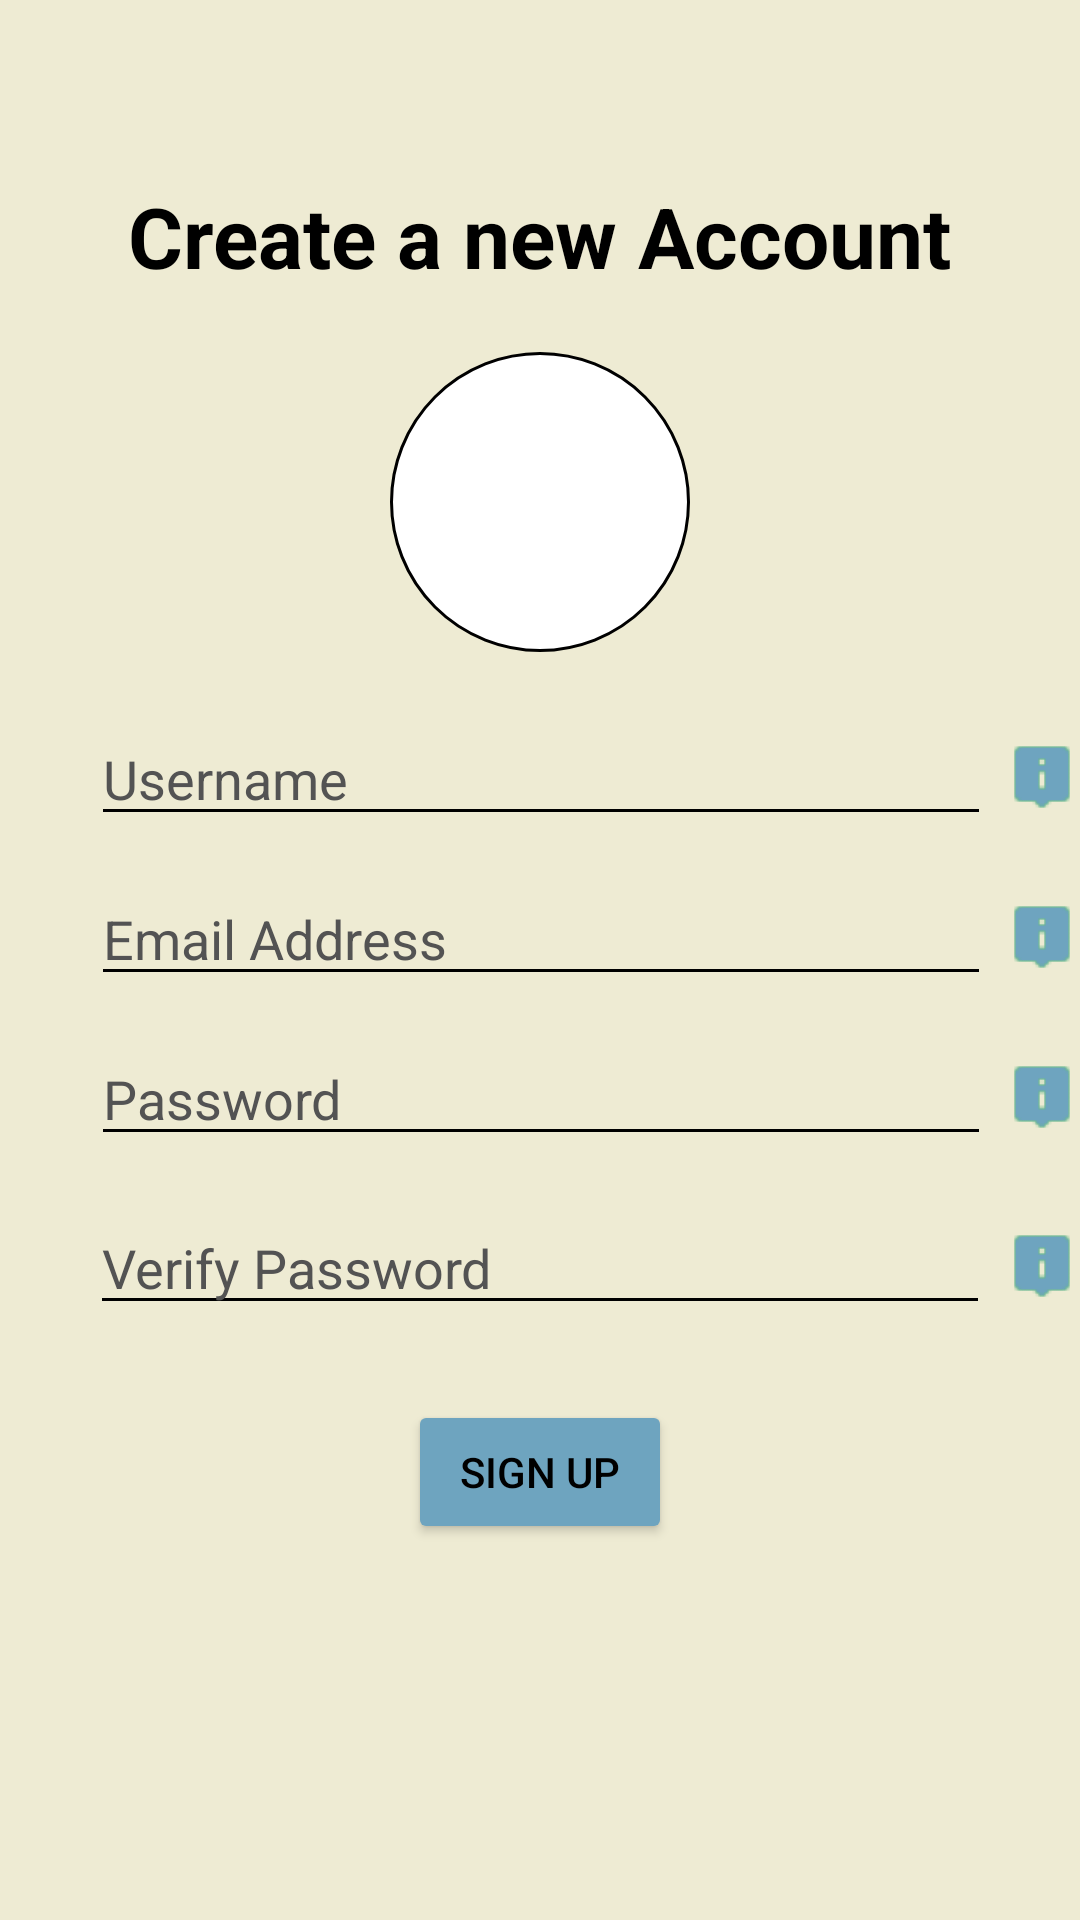

Where to tap for icons on this 1080px×1920px app screen, as (x=x, y=y):
info: (x=1042, y=777), (x=1042, y=937), (x=1042, y=1097), (x=1042, y=1266)
